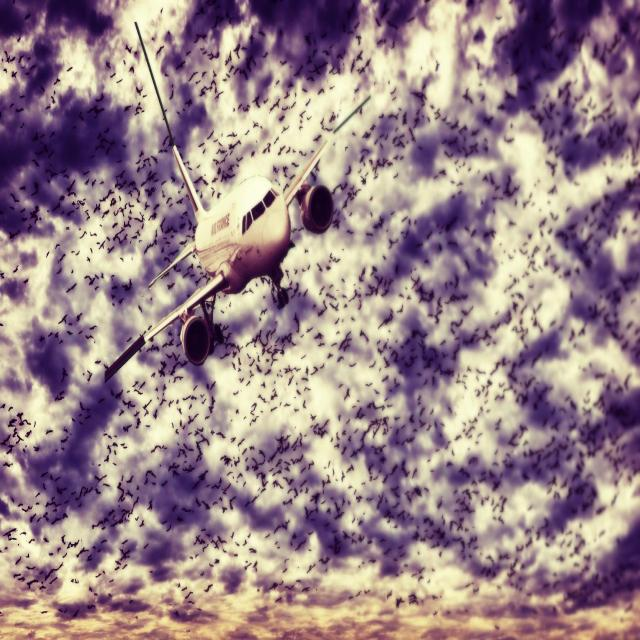airplane: (102, 20, 371, 384)
